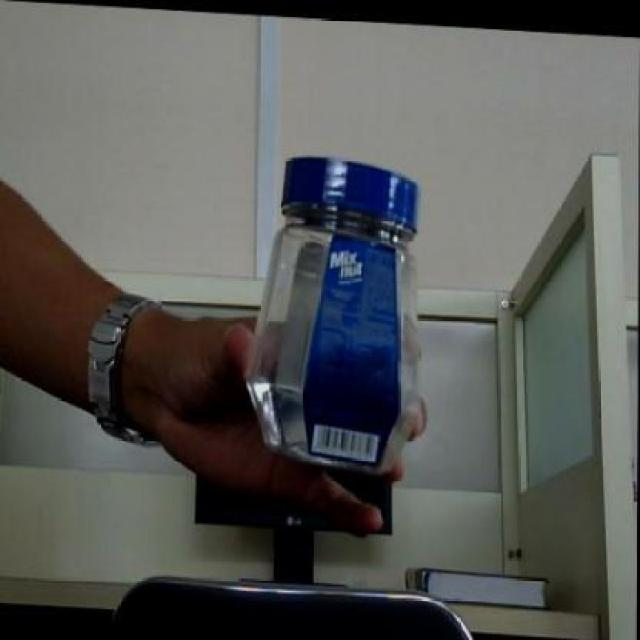Plastic: (245, 149, 431, 488)
